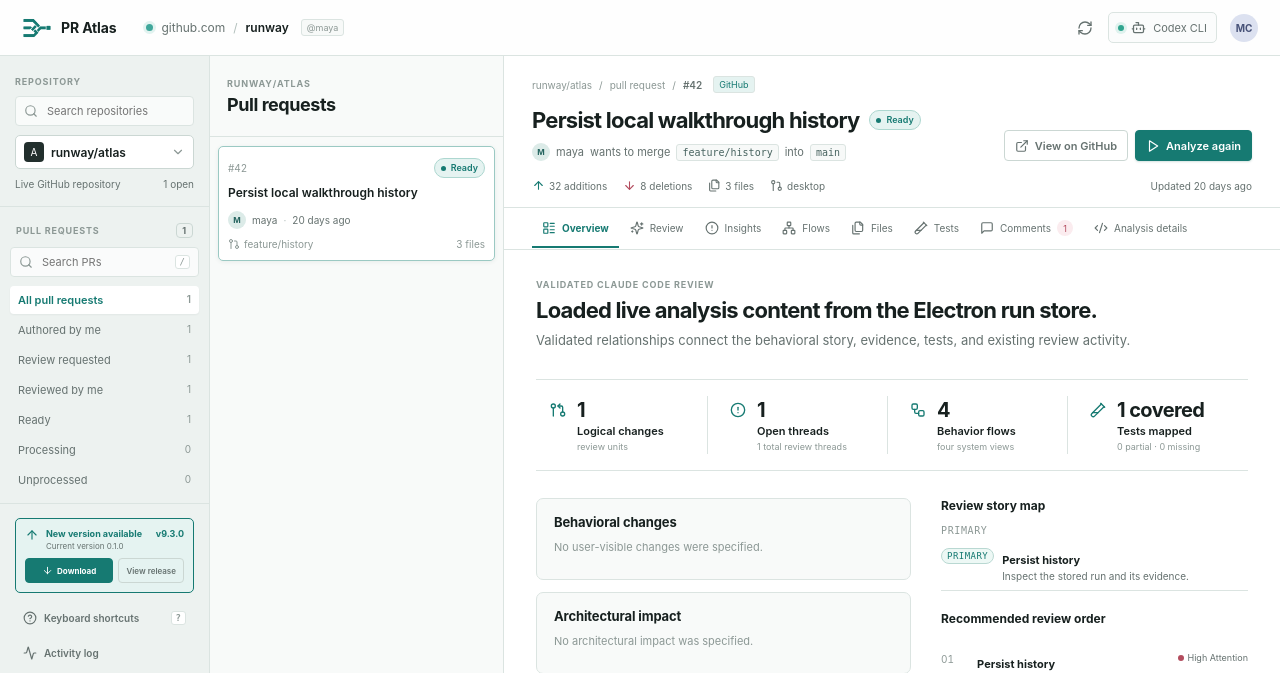
Test: live Electron renderer contract › keeps the newest update check when concurrent refreshes resolve out of order
The image size is (1280, 673).
Expected: the message labelled "New version available v9.3.0 Current version 0.1.0 Download View release" is shown, [15,518,194,593]
Click the button named "refresh pull requests" at coordinates (1085, 28), box [1070,12,1100,42]
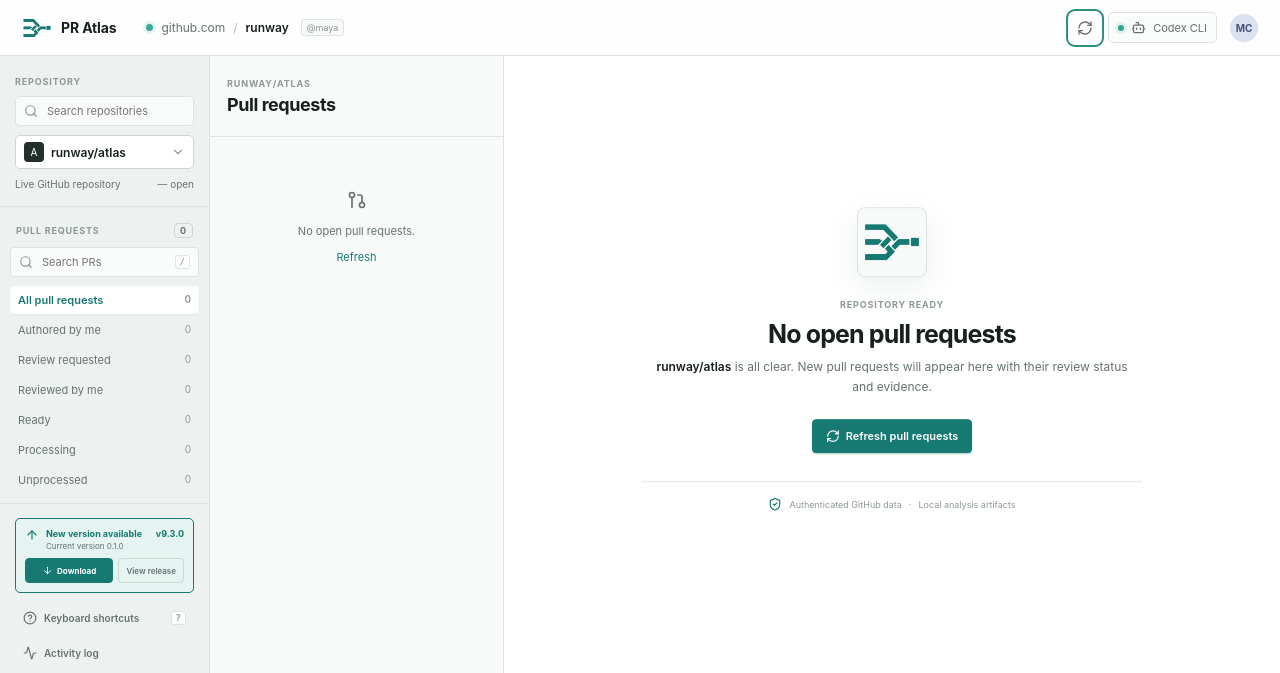
Click the button named "refresh pull requests" at coordinates (1085, 28), box [1070,12,1100,42]
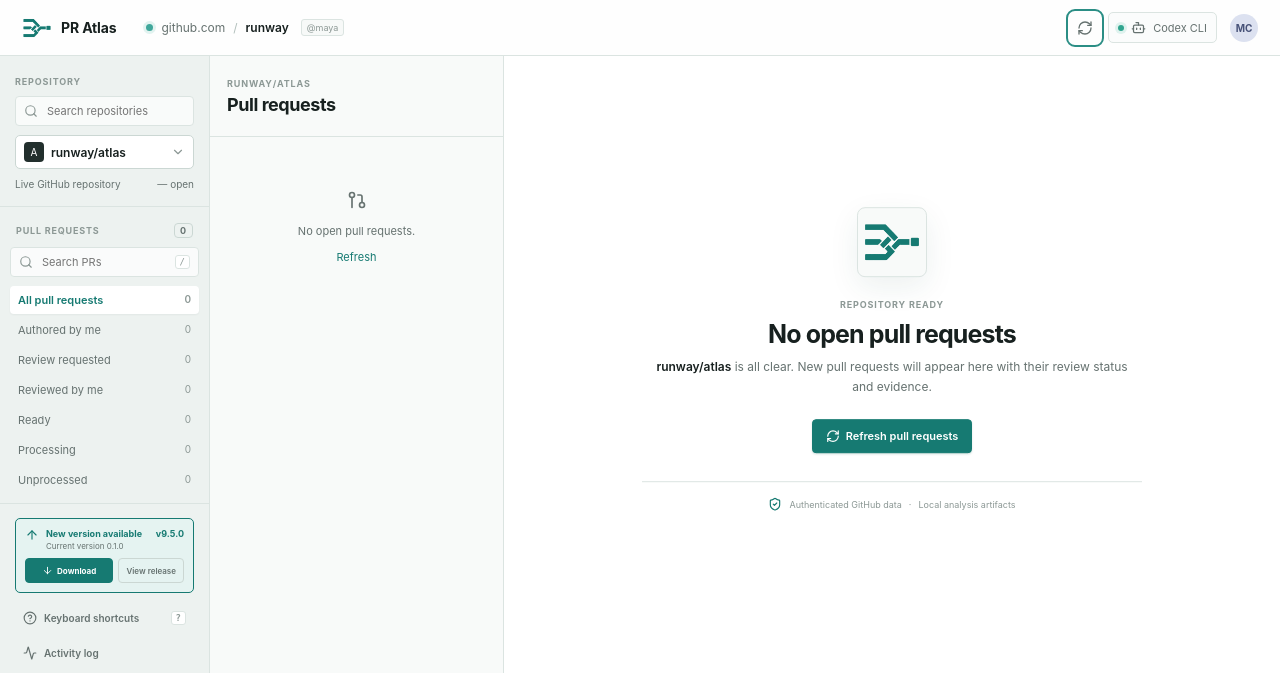
Expected: the message labelled "New version available v9.5.0 Current version 0.1.0 Download View release" is shown, [15,518,194,593]
